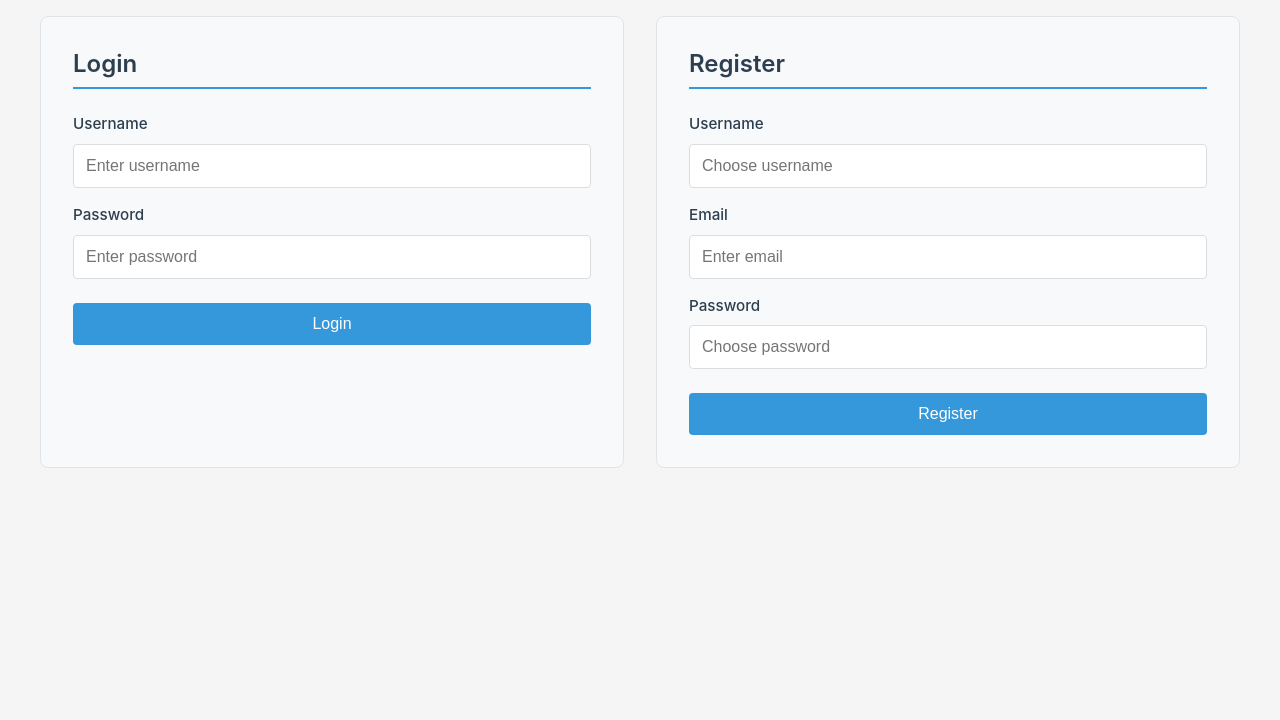
Test: AuthComponent › handles successful registration
// Fill in registration form
Type "newuser" into the field with id "register-username" at (948, 166), box [689, 144, 1207, 188]
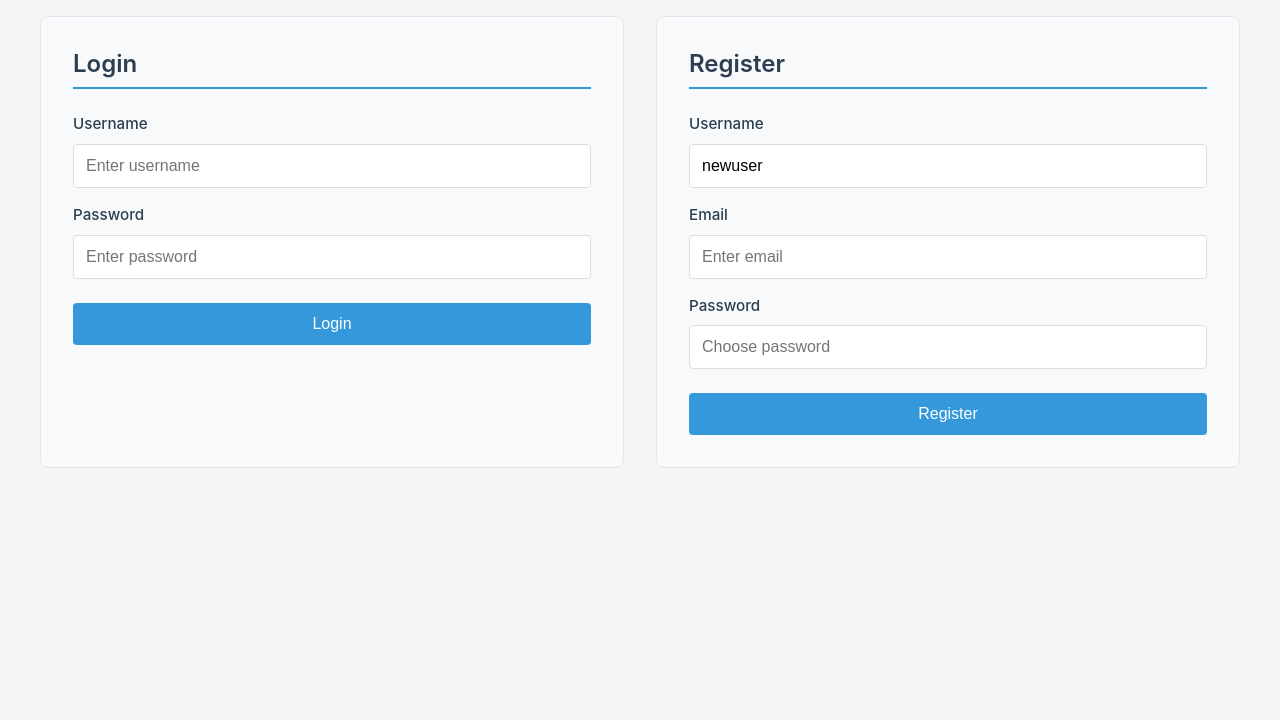
Type "new@example.com" into the field with id "register-email" at (948, 257), box [689, 235, 1207, 279]
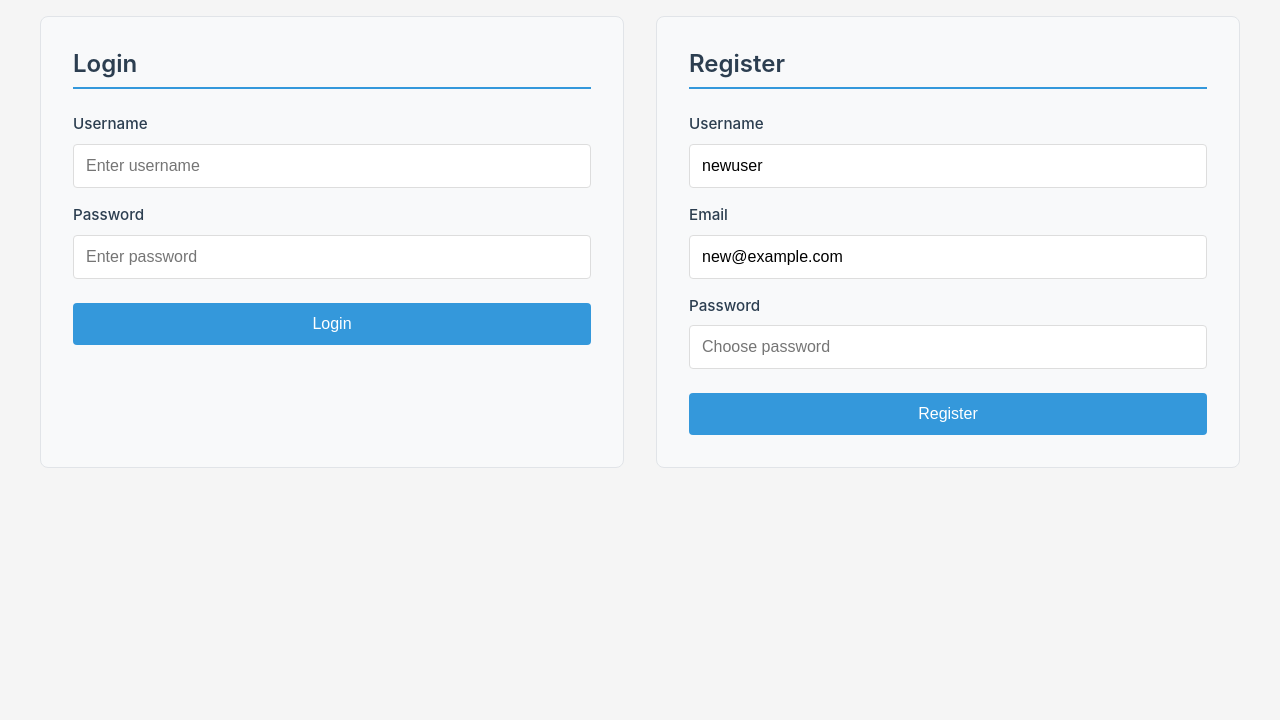
Type "newpass" into the password field with id "register-password" at (948, 347), box [689, 325, 1207, 369]
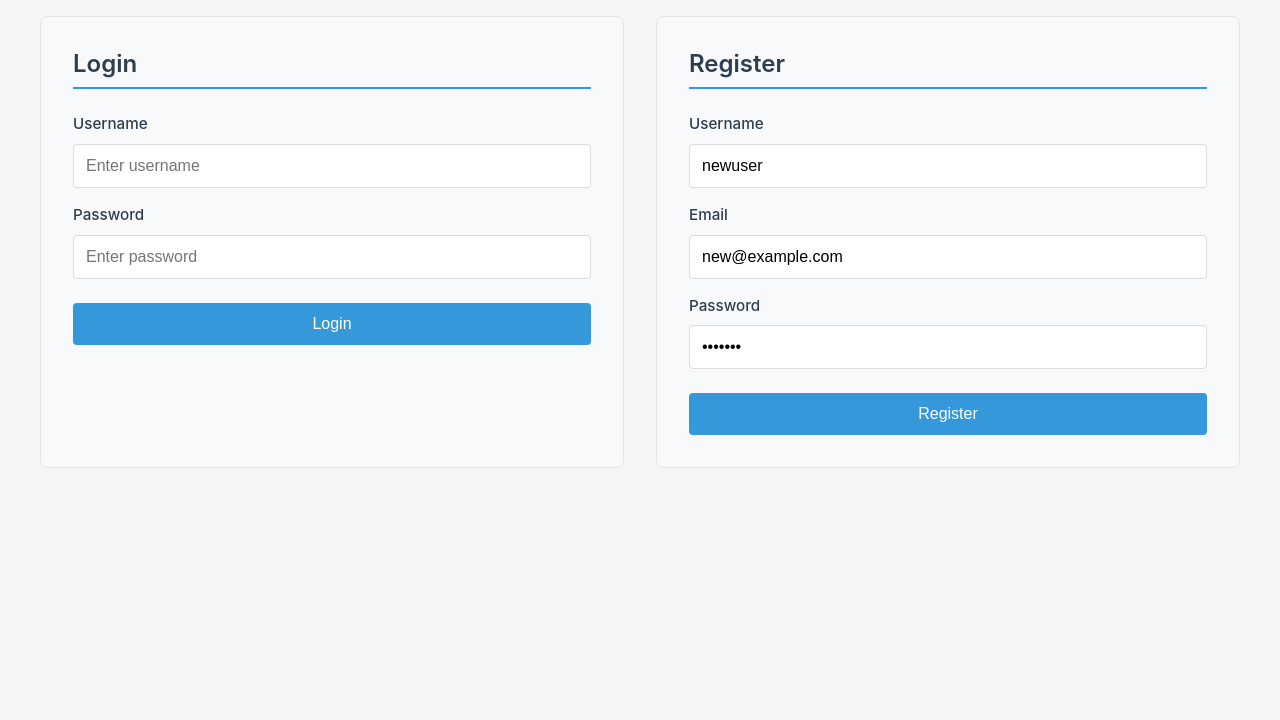
// Submit registration form
Submit the 2nd form with class "auth-form", box [689, 113, 1207, 435]
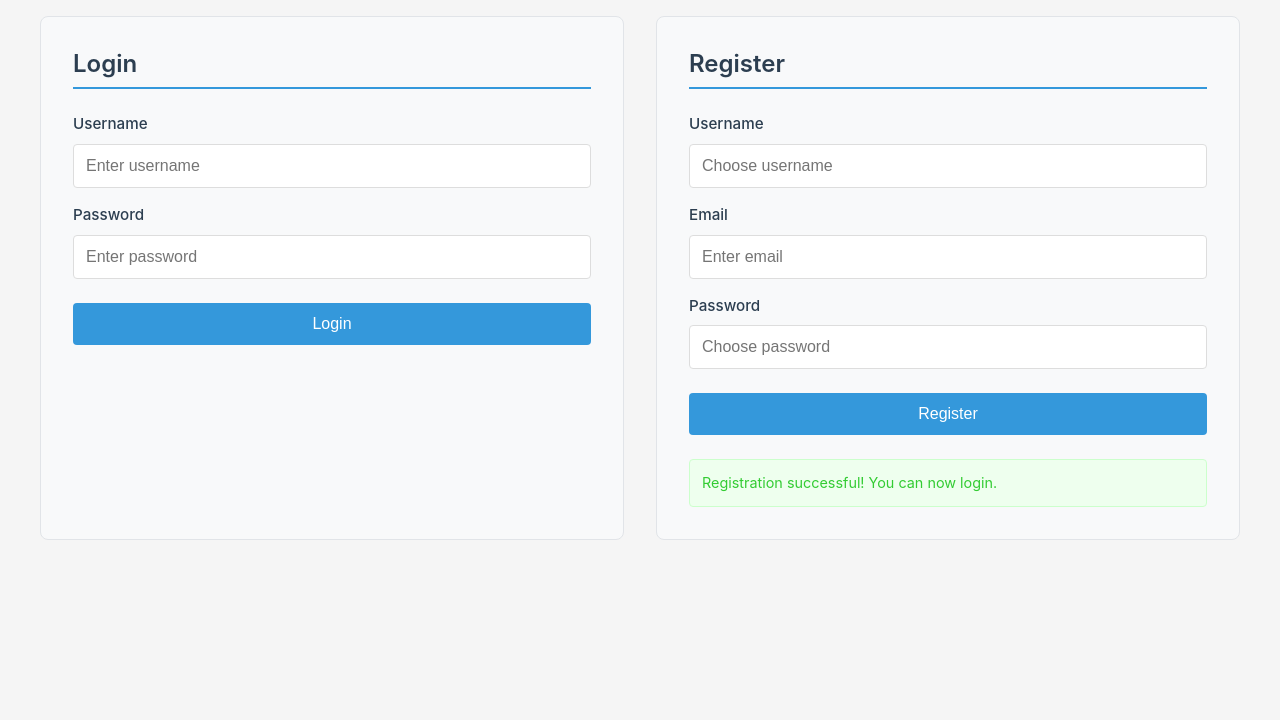
Check: the text "Registration successful! You can now login." is shown, box [689, 459, 1207, 507]
Check: the text with class "success-message" shows "Registration successful", box [702, 474, 997, 491]
